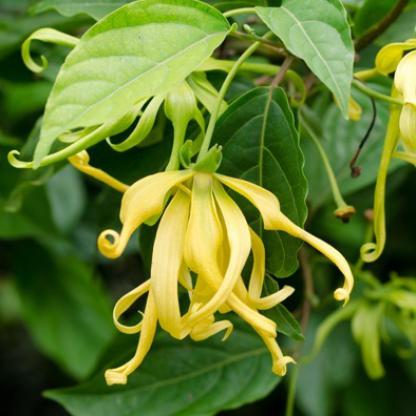Kenanga: (124, 144, 293, 342)
